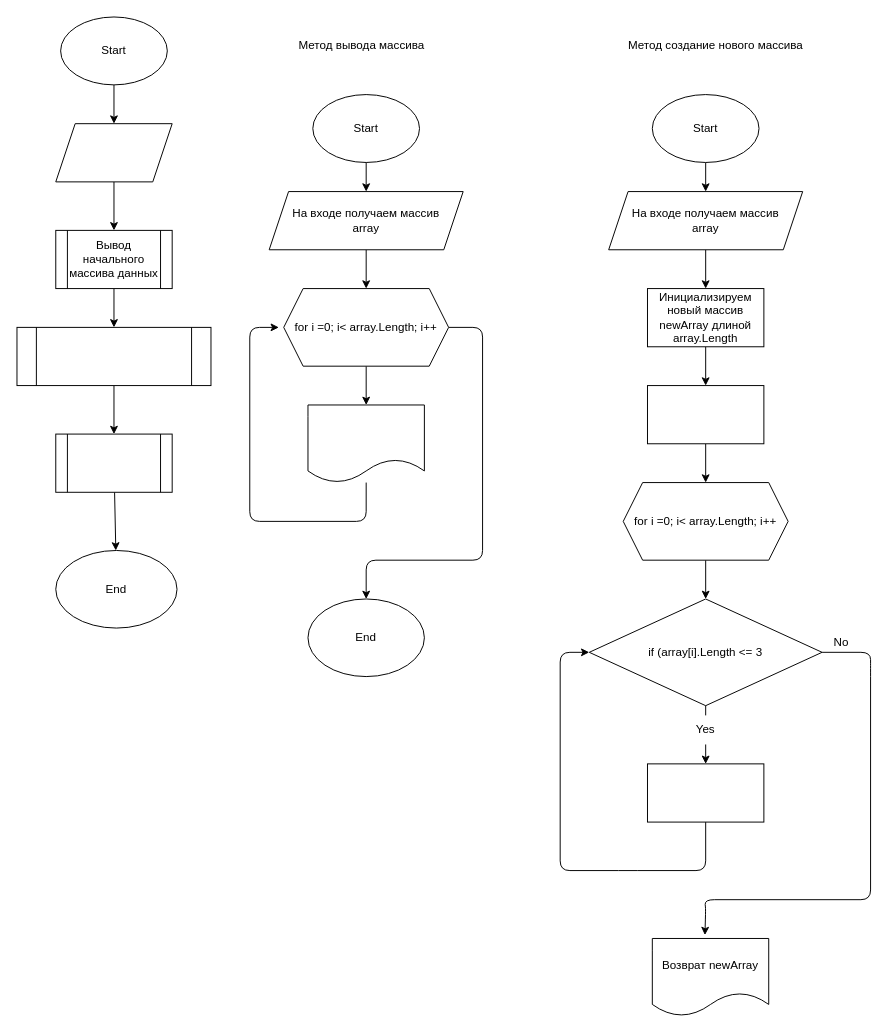
Image size: 895x1033. Some labels were removed from this diagram. The centre of each missing label's shape, as x and y in pixels:
int j = 0: pixel 705 414
newArray[j] = array[i] j+=1: pixel 705 792
Ввод начальных данных (массива строк): pixel 113 152
Вывод array[i]: pixel 365 443
Вывод массива данных: pixel 113 462
На входе исходный массив. Возврат нового массива сотоящего из 3 символов: pixel 113 356
